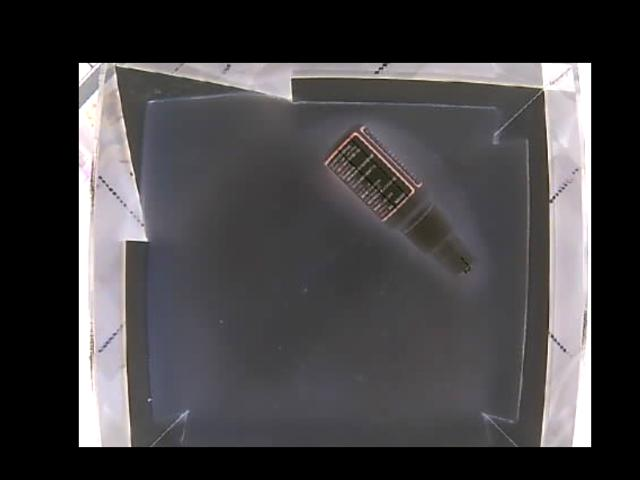Bottle: (322, 119, 481, 289)
